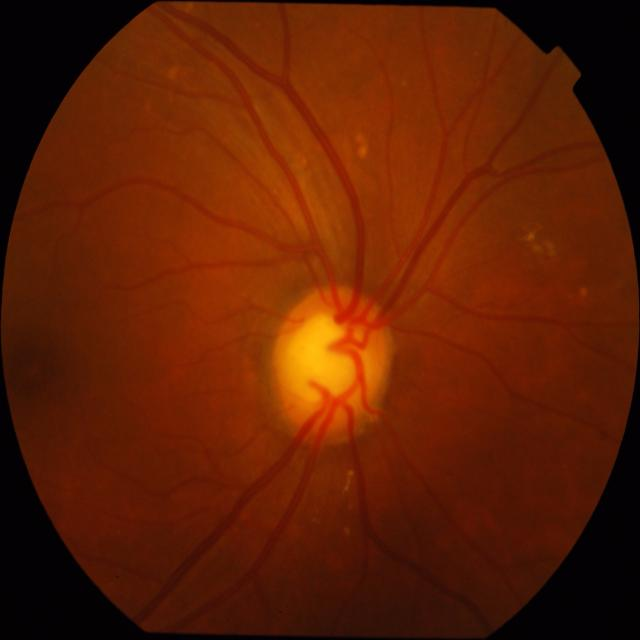OC: (282, 304, 383, 422)
OD: (271, 284, 394, 440)
